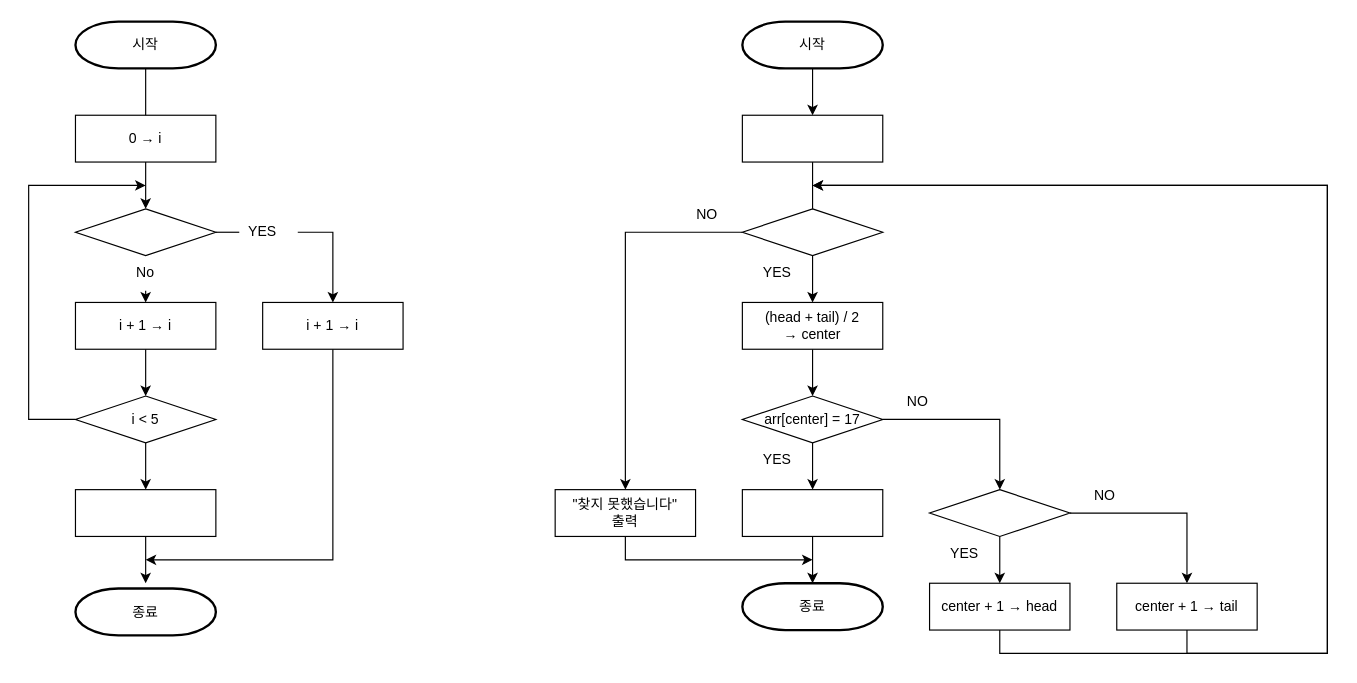
This 1357x683 diagram has some shape labels left out. Each missing label, with the centre of its shape:
"'찾지 못했다' 출력" belongs at (145,512).
"0 → head 6 → tail" belongs at (812,138).
"arr[0] = 5" belongs at (145,232).
"arr[center] < 17" belongs at (999,512).
"center번째 요소와 일치" belongs at (812,512).
"head <= tail" belongs at (812,232).
